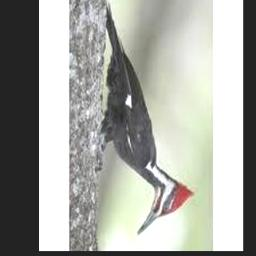Woodpecker: (100, 4, 195, 235)
